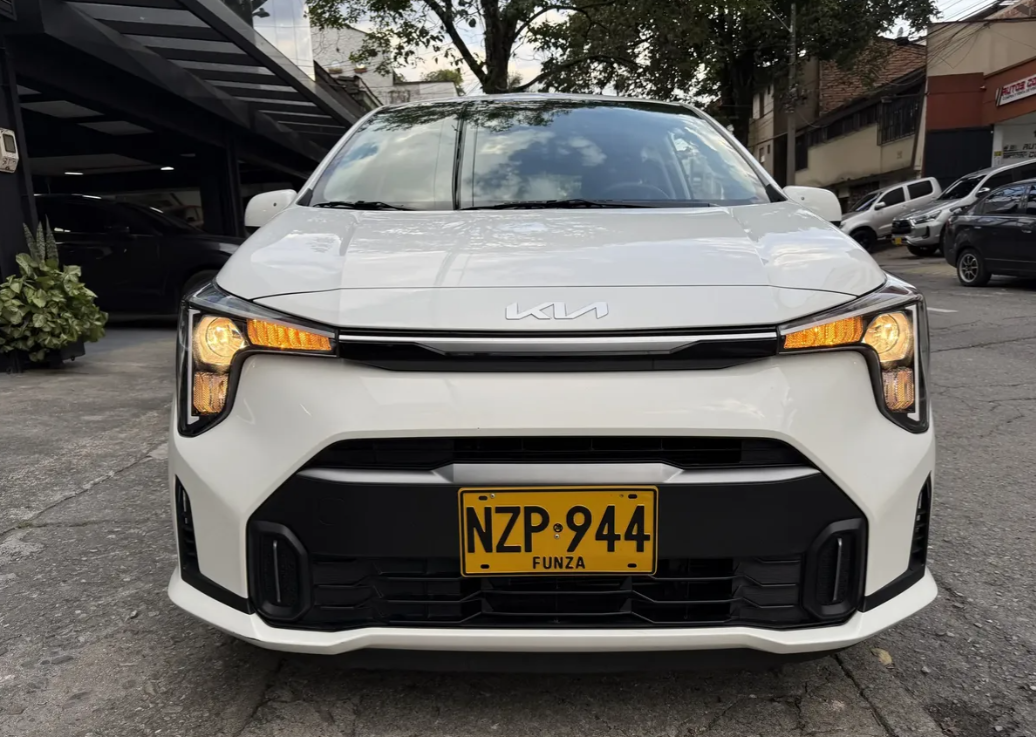placa: (457, 488, 660, 578)
